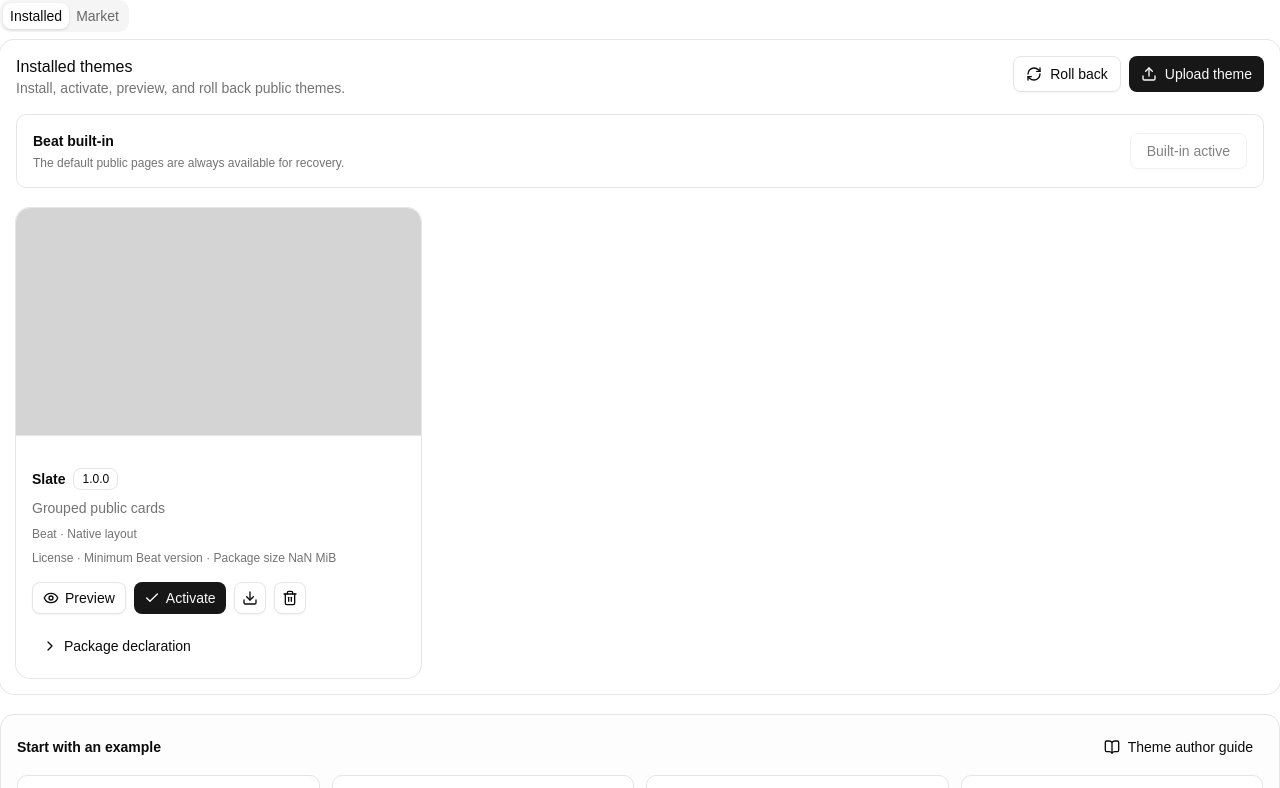
Test: installed theme operations › keeps a failed proof visible without repeating the mutation
Step 1. Click the button named "Delete" → (290, 598), box 274,582 -> 306,614
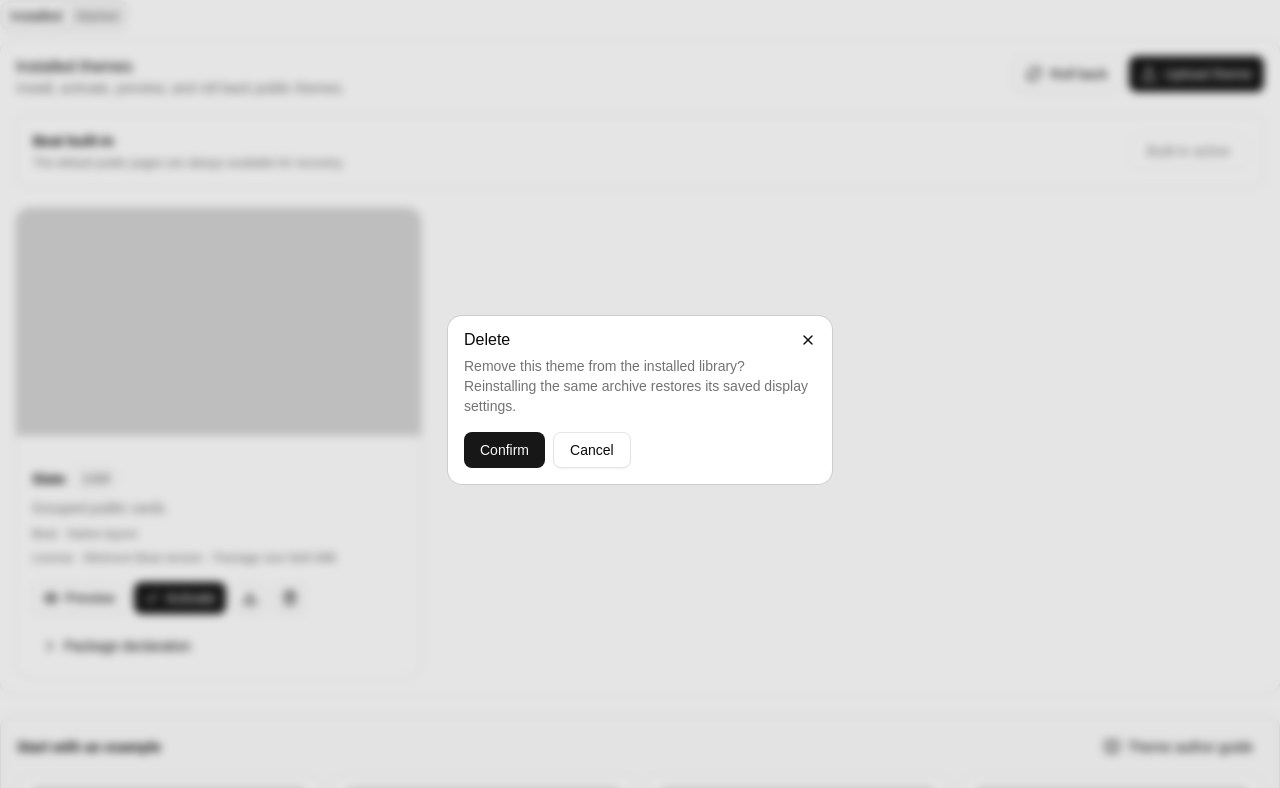
Step 2. Click the button "Confirm" → (504, 450), box 464,432 -> 545,468
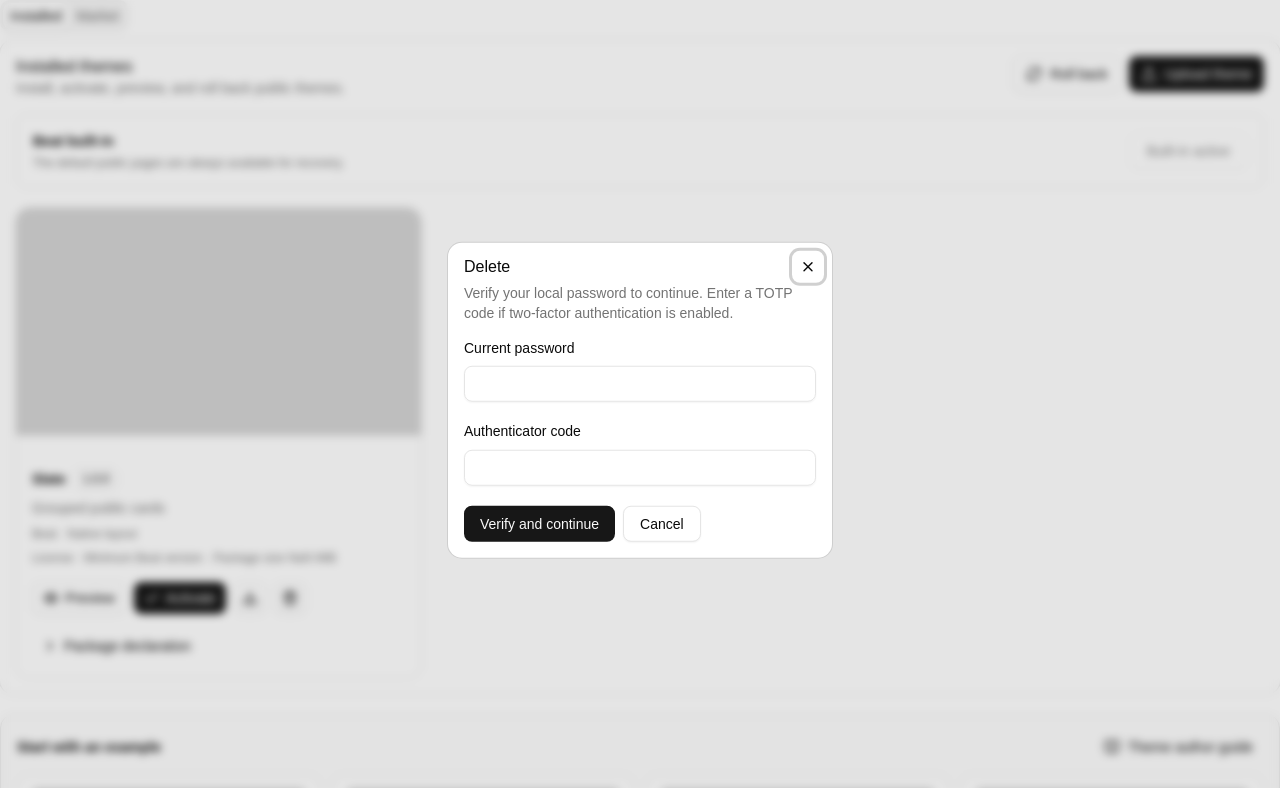
Step 3. Type "wrong proof" into the password field labelled "Current password" → (640, 384), box 464,366 -> 816,402
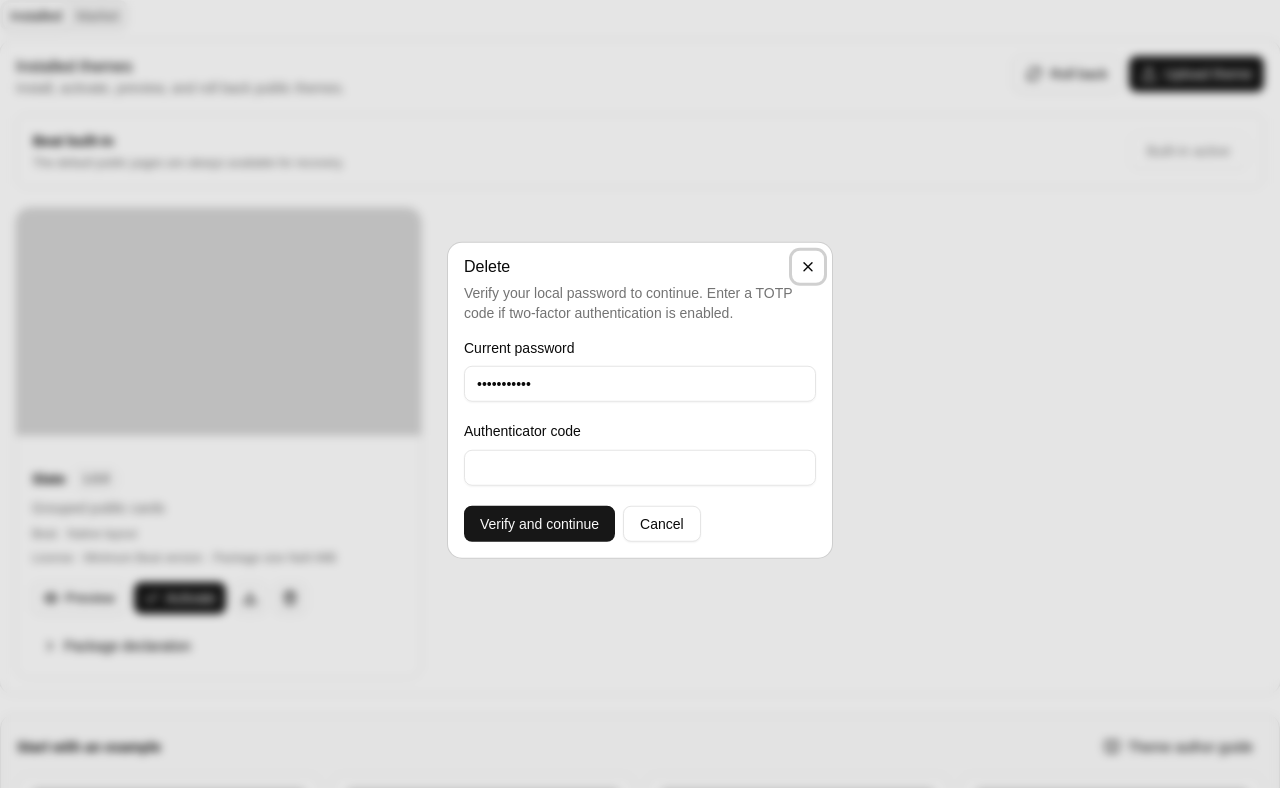
Step 4. Click the button "Verify and continue" → (540, 523), box 464,505 -> 615,541
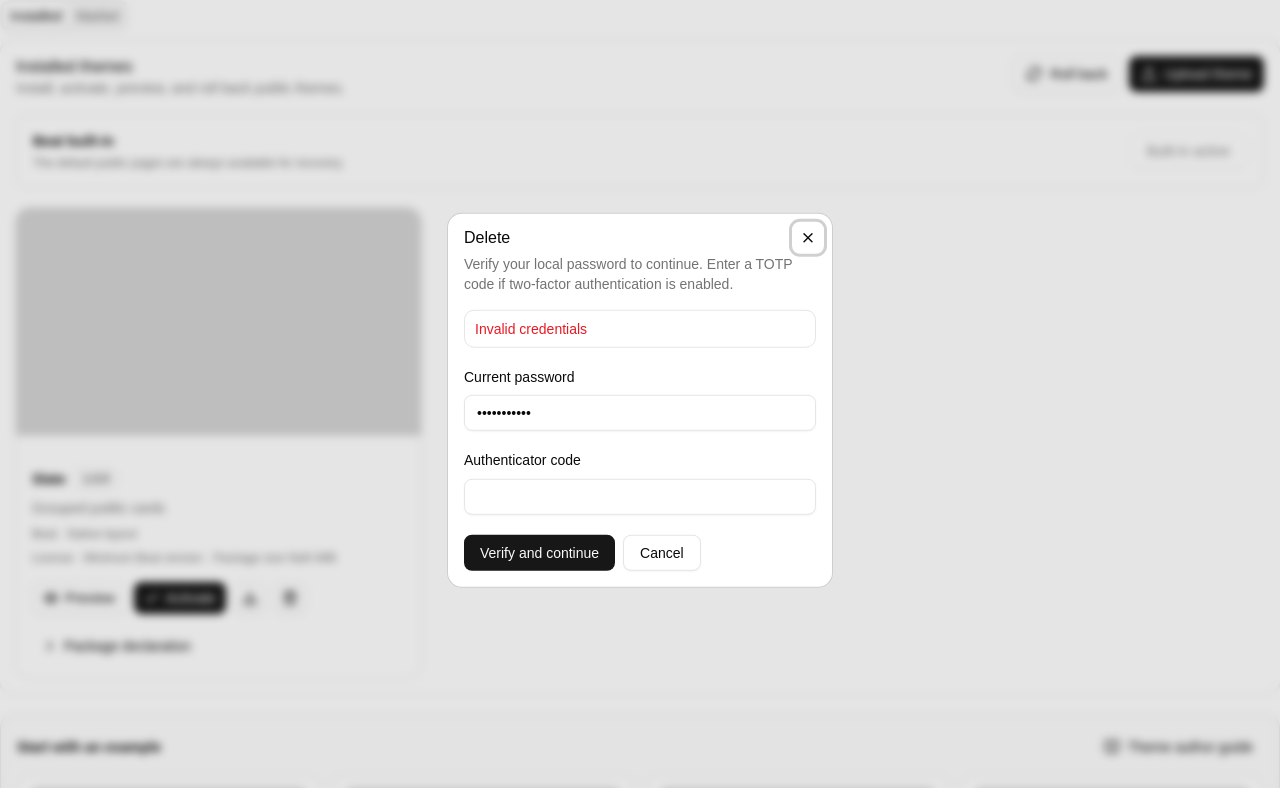
Check: the text "Invalid credentials" is shown, box 475,321 -> 587,337
